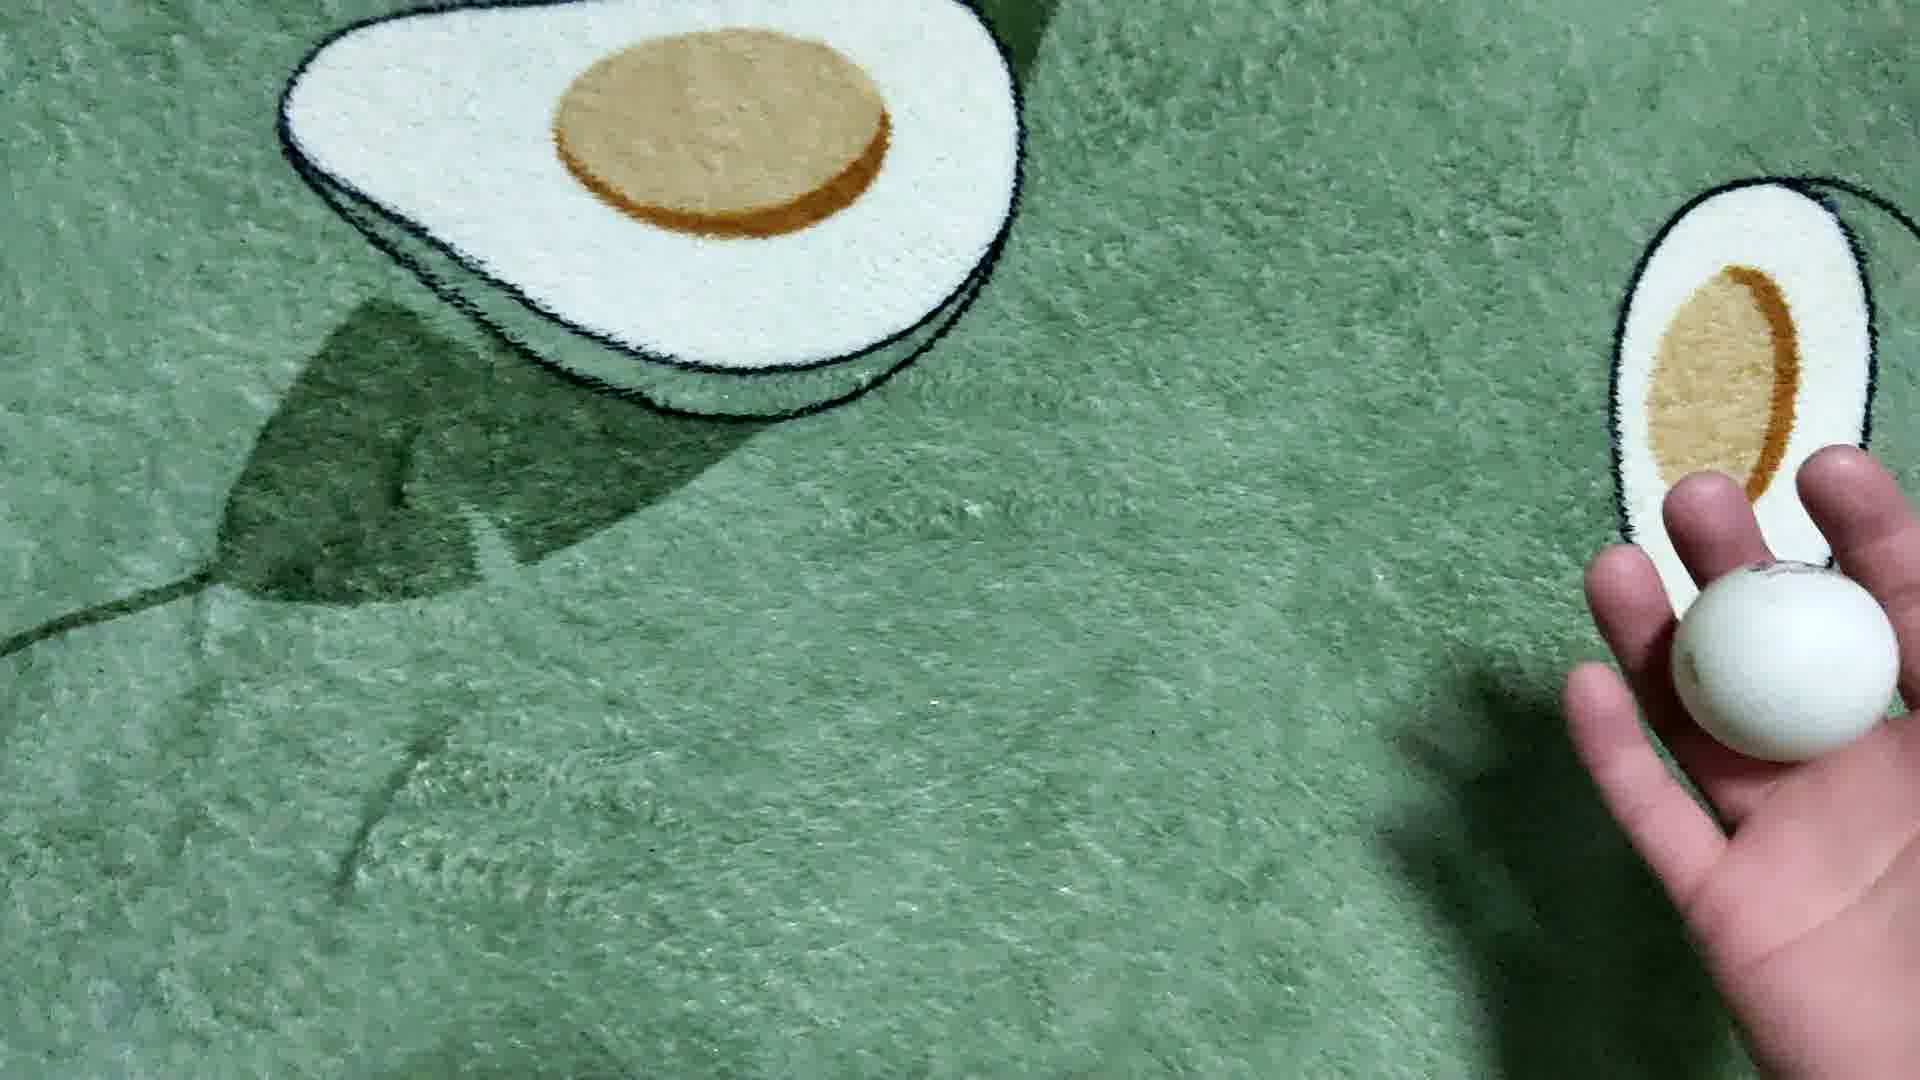Ball: (1672, 560, 1904, 758)
